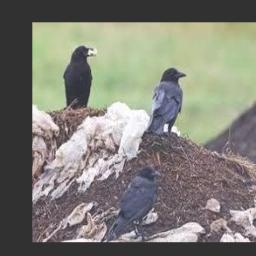Crow: (107, 166, 161, 241), (146, 67, 188, 135), (64, 46, 96, 108)
